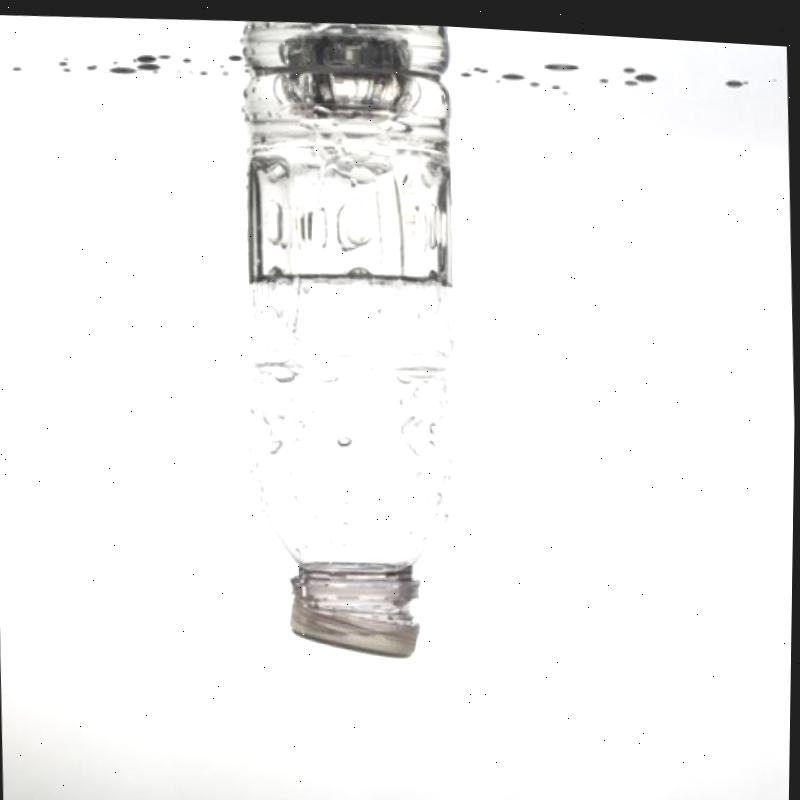botella: (232, 47, 476, 664)
